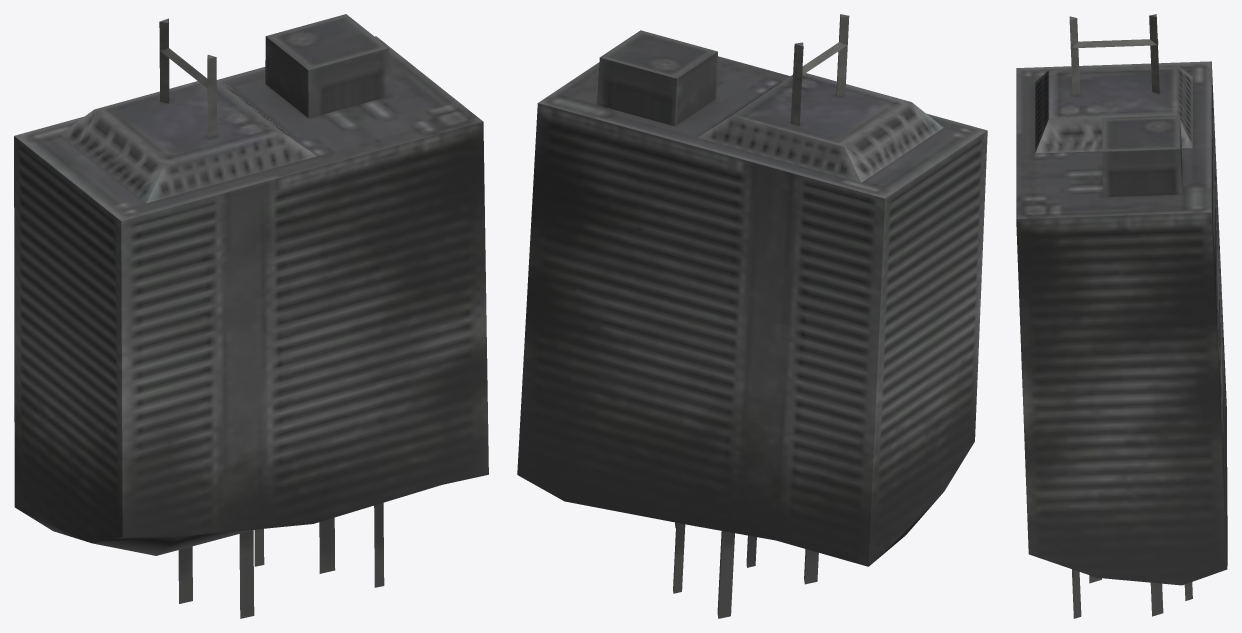
File: skyBuildingAAC_pos_grp (17).fbx
3 views of the same model, side by side, from view 1: azimuth 30°, elevation 25°; view 2: azimuth 150°, elevation 25°; view 3: azimuth 270°, elevation 25° (orthographic). The views are drawn at different scales.
Parts seen in each view (by area): view 1: skyBuildingAAC_geo; view 2: skyBuildingAAC_geo; view 3: skyBuildingAAC_geo.
Boxes of the visible parts, x1,y1,x2,y2 form: skyBuildingAAC_geo: (14,14,488,618); skyBuildingAAC_geo: (517,14,987,618); skyBuildingAAC_geo: (1016,14,1227,618).
Bounding box in the file's own units: 5.94 × 9.3 × 3.17.
